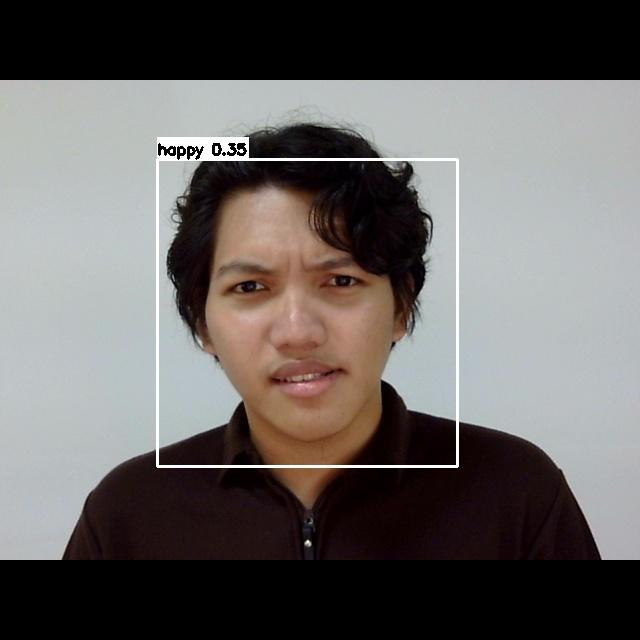Angry: (204, 236, 410, 423)
